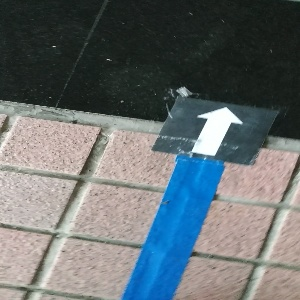straight: (152, 96, 280, 165)
